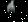person: (7, 1, 18, 16)
